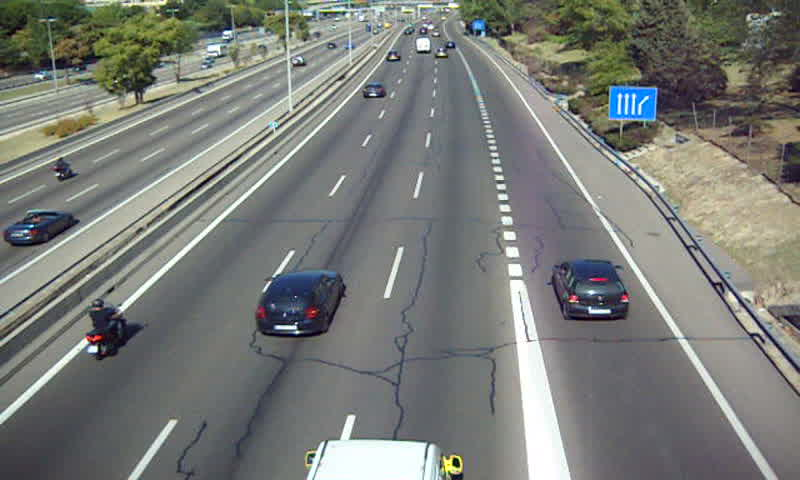car: (254, 268, 344, 337), (556, 261, 629, 319), (362, 83, 386, 98)
motorcycle: (85, 297, 125, 363)
